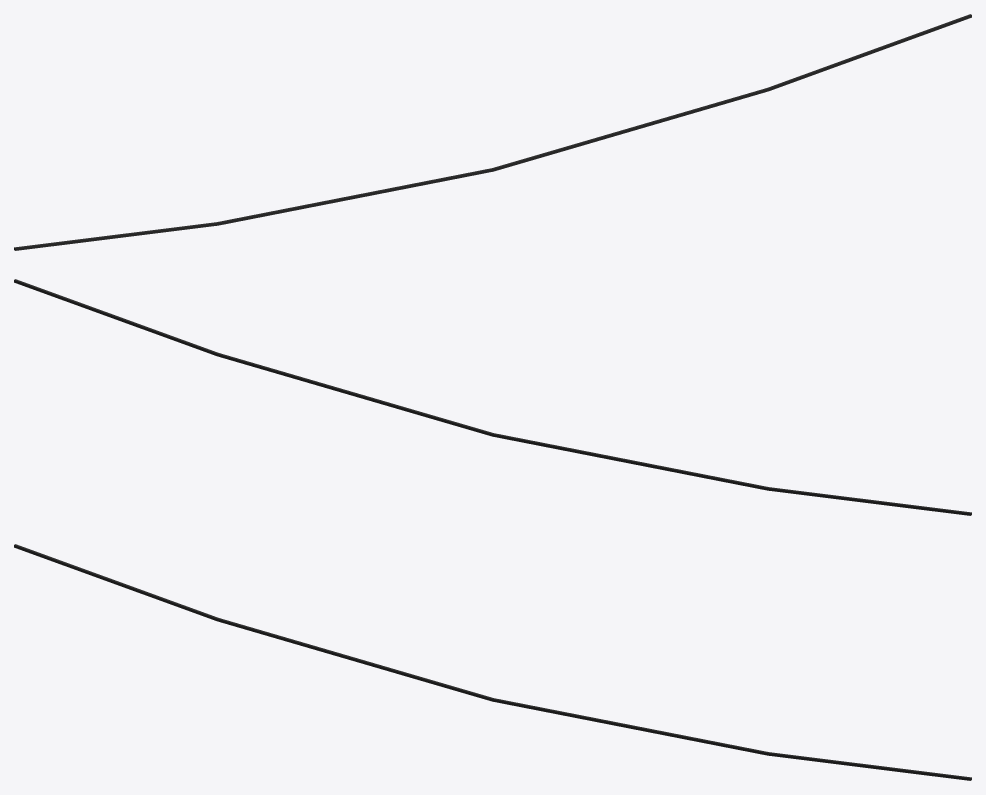
Rendered from SM_BuildingsDecor_13.fbx.
3 renders of one model, top to bottom at view 1: azimuth 30°, elevation 25°; view 2: azimuth 150°, elevation 25°; view 3: azimuth 330°, elevation 25°, orthographic.
Visible parts, largest first — view 1: SM_BuildingsDecor_13; view 2: SM_BuildingsDecor_13; view 3: SM_BuildingsDecor_13.
Boxes of the visible parts, x1,y1,x2,y2 form: SM_BuildingsDecor_13: [14, 14, 971, 250]; SM_BuildingsDecor_13: [14, 279, 971, 515]; SM_BuildingsDecor_13: [14, 544, 971, 780].
Bounding box in the file's own units: 10 × 0.3981 × 0.025.
